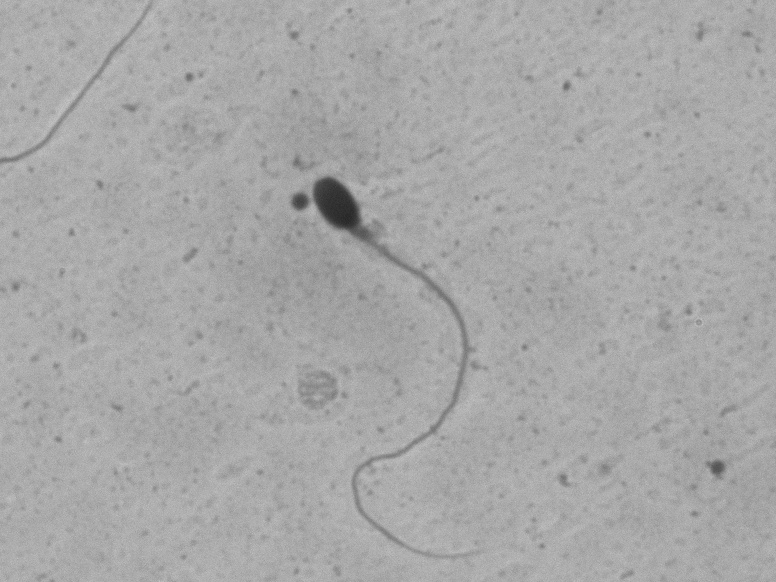Normal: (299, 147, 523, 571)
